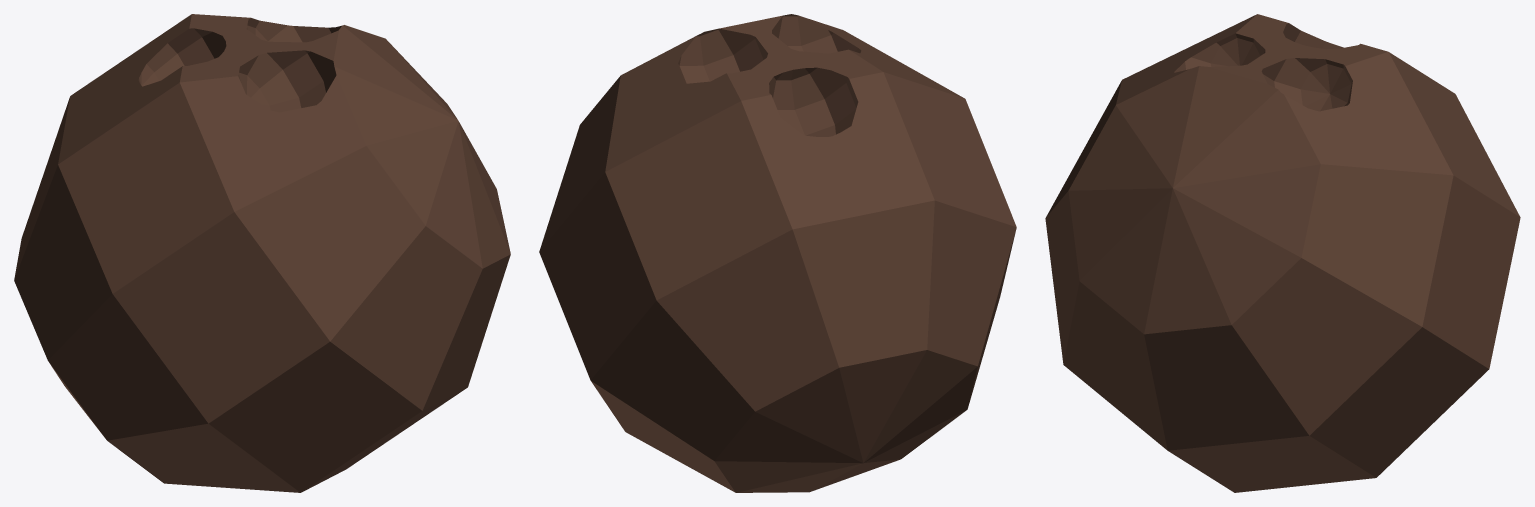
File: Coconut ball.glb
The picture shows the model from 3 angles, left to right: view 1: azimuth 30°, elevation 25°; view 2: azimuth 150°, elevation 25°; view 3: azimuth 270°, elevation 25°; orthographic projection. The views are drawn at different scales.
Visible parts, largest first — view 1: Sphere.001; view 2: Sphere.001; view 3: Sphere.001.
Part boxes in pixels (box(x1,y1,x2,y2)): Sphere.001: box(14, 14, 510, 492); Sphere.001: box(539, 14, 1016, 492); Sphere.001: box(1045, 14, 1520, 492).
Size of the model in its own units: 0.8742 by 0.8563 by 0.8824.
